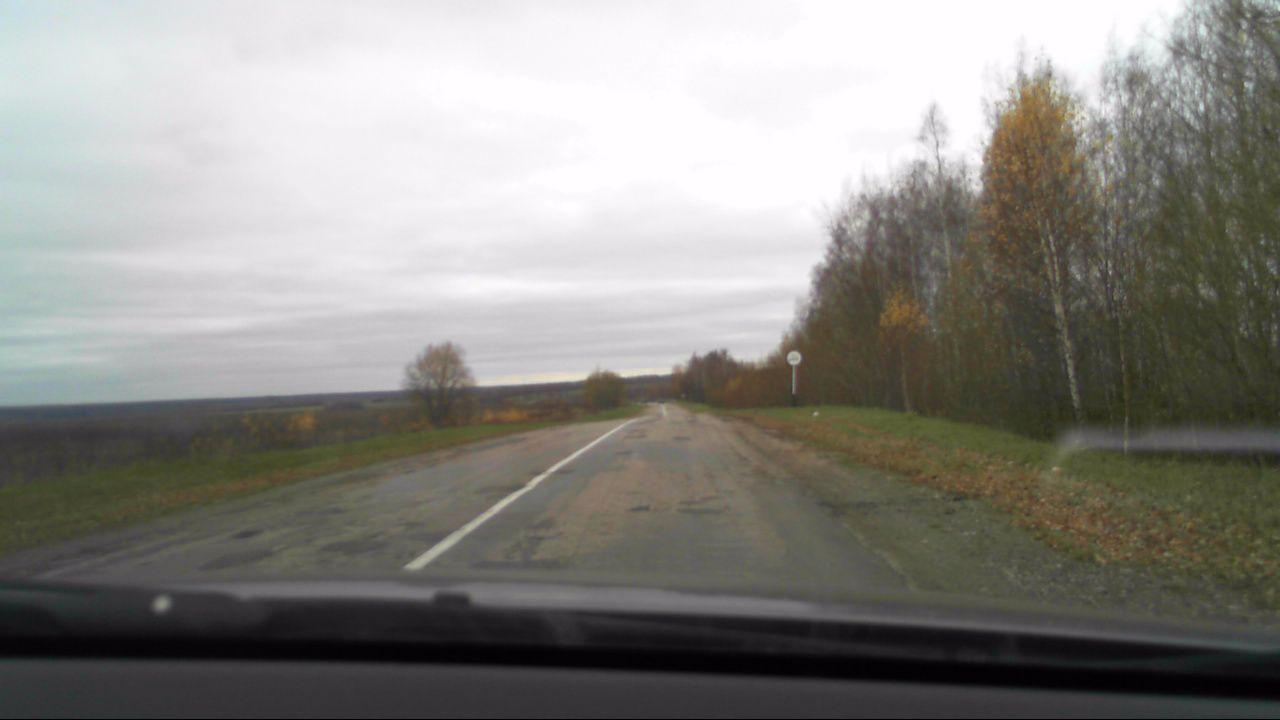3_12: (784, 349, 801, 365)
